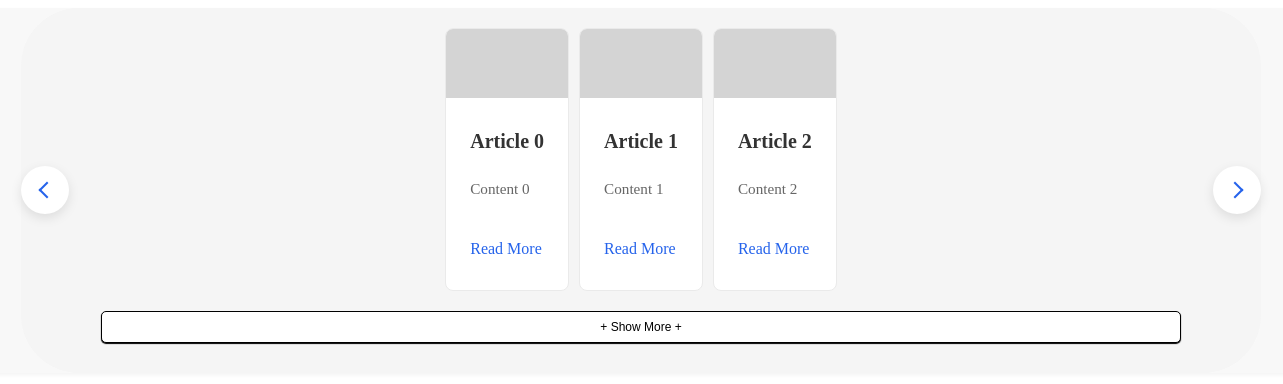
Test case: ArticleCarousel › navigation › shows next set of articles when clicking next arrow
The image size is (1283, 384).
Expected: the heading "Article 0" is shown, [470,130,544,152]
# Click next arrow
What coordinates should you click on to do the following:
click the button named "Next articles"
I would click on:
 (1237, 190)
Its box is [1213,166,1261,214].
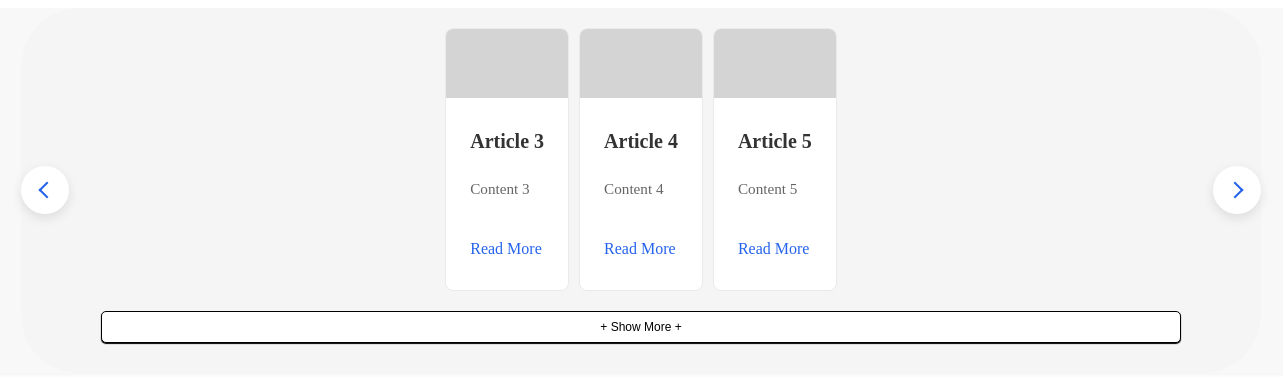
Now the heading "Article 0" is gone
Now the heading "Article 3" is shown, box [470,130,544,152]
